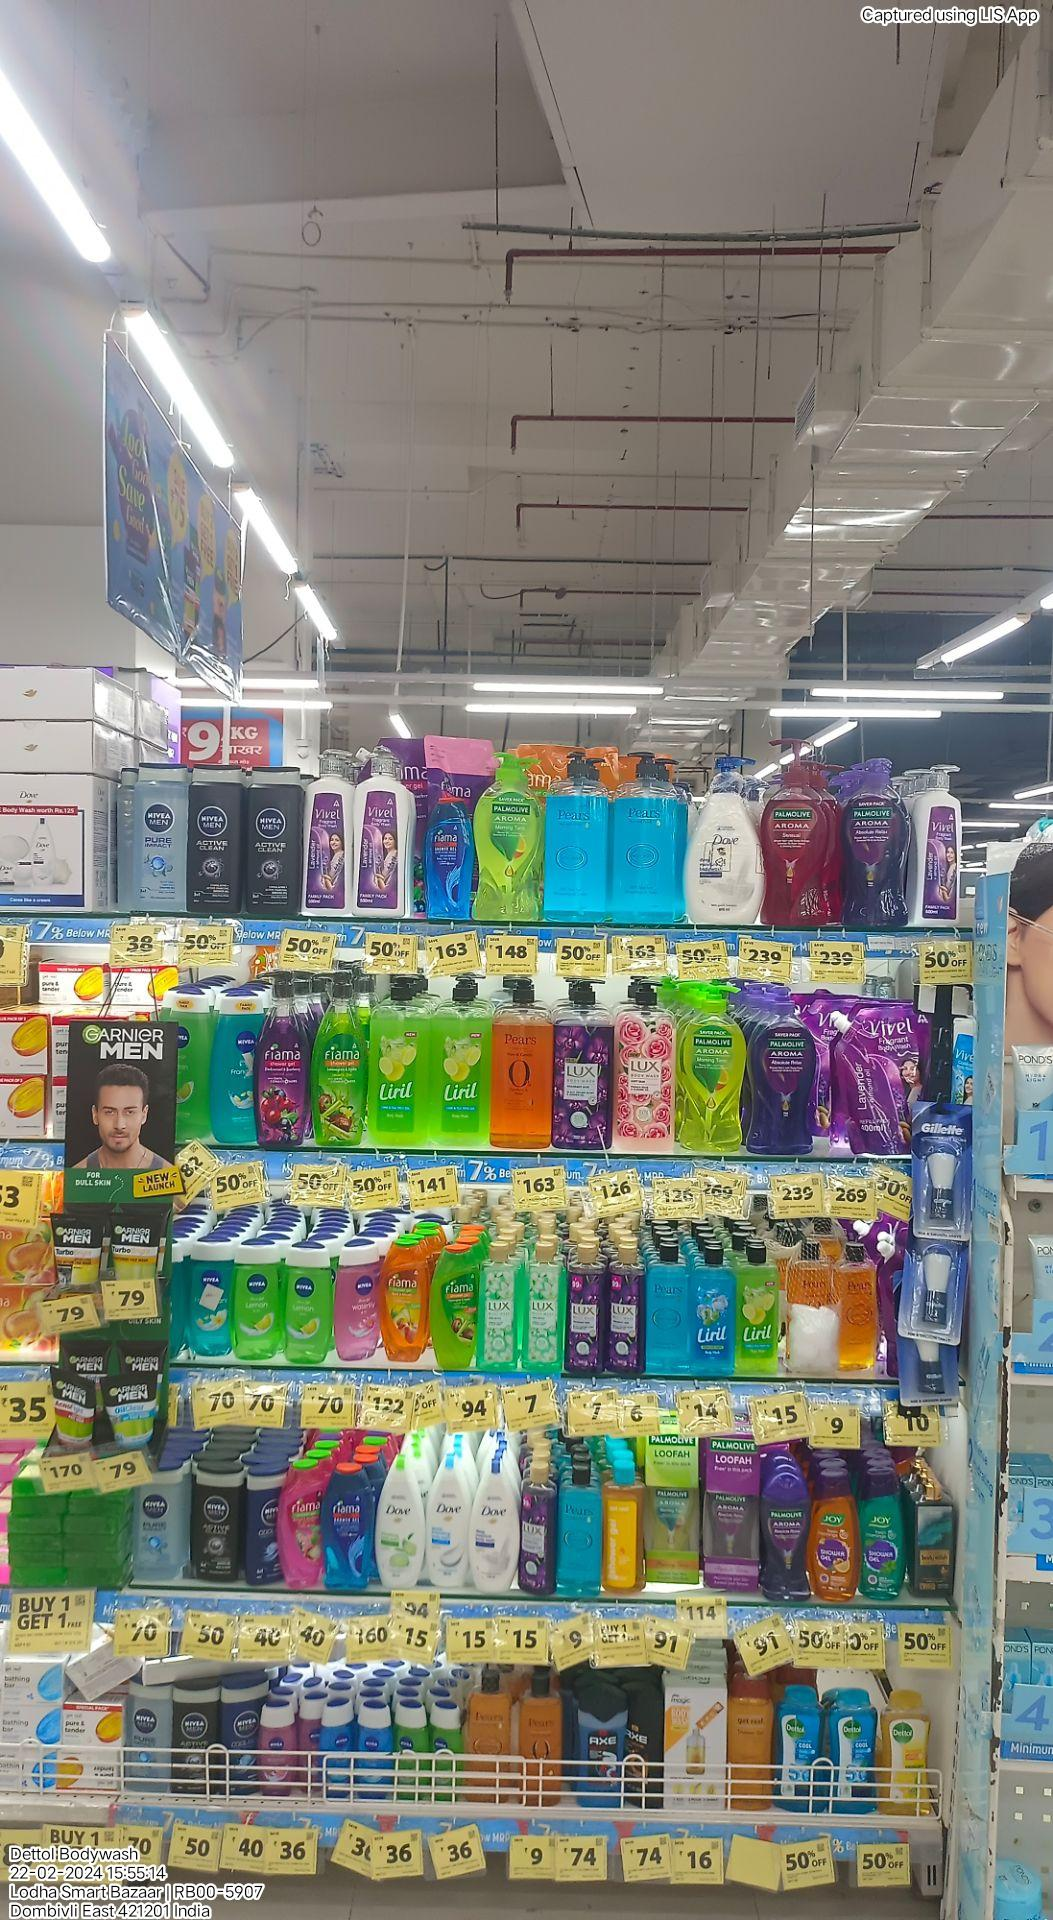Dettol_Bodywash_Cool: (827, 1689, 879, 1815), (775, 1687, 825, 1816)
Dettol_Bodywash_Refresh: (883, 1689, 935, 1816)
Dove_Deep_Moisture_Body_Wash_250ML: (472, 1460, 516, 1592)
Dove_Gentle_Exfoliating_Body_Wash_250ML: (427, 1456, 471, 1591)
Dove_Refreshing_Body_Wash_250ML: (376, 1453, 423, 1586)
Fiama_Shower_Gel_Lemongrass_and_Jojoba_250ML: (434, 1243, 476, 1373)
Fiama_Shower_Gel_Patchouli_and_Macadamia_250ML: (281, 1458, 324, 1591)
Fiama_Shower_Gel_Peach_and_Avocado_250ML: (380, 1235, 427, 1366)
Get_Real_Shower_Gel_Moisturising_Glycerin_300ML: (728, 1675, 775, 1810)
Joy_Shower_Gel_Mandarin_and_Lemongrass_250ML: (812, 1469, 862, 1600)
Joy_Shower_Gel_Mint_and_Eucalyptus_250ML: (862, 1464, 908, 1598)
Liril_Cooling_Mint_Body_Wash_250ML: (690, 1247, 733, 1370)
Liril_Lime_and_Tea_Tree_Oil_Body_Wash_250ML: (734, 1239, 779, 1376)
Lux_Black_Orchid_Scent_and_Juniper_Oil_Body_Wash_245ML: (608, 1242, 647, 1378), (569, 1246, 603, 1373), (523, 1458, 554, 1591)
Lux_Body_Wash_Skin_Detox_Freesia_Scent_and_Alove_Vera_245ML: (477, 1245, 521, 1372), (524, 1242, 565, 1373)
Nivea_Shower_Gel_Frangipani_and_Oil_250ML: (189, 1239, 232, 1360)
Nivea_Shower_Gel_Lemon_and_Oil_250ML: (236, 1242, 283, 1360), (285, 1243, 329, 1364)
Nivea_Shower_Gel_Waterlily_and_Oil_250ML: (333, 1237, 380, 1361)
Palmolive_Aroma_Relax_250ML: (763, 1473, 809, 1601)
Pears_Pure_Glycerin_and_Mint_Extracts_Body_Wash_250ML: (560, 1464, 604, 1597), (647, 1245, 689, 1363)
